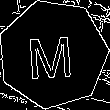M_N: (28, 28, 78, 81)
